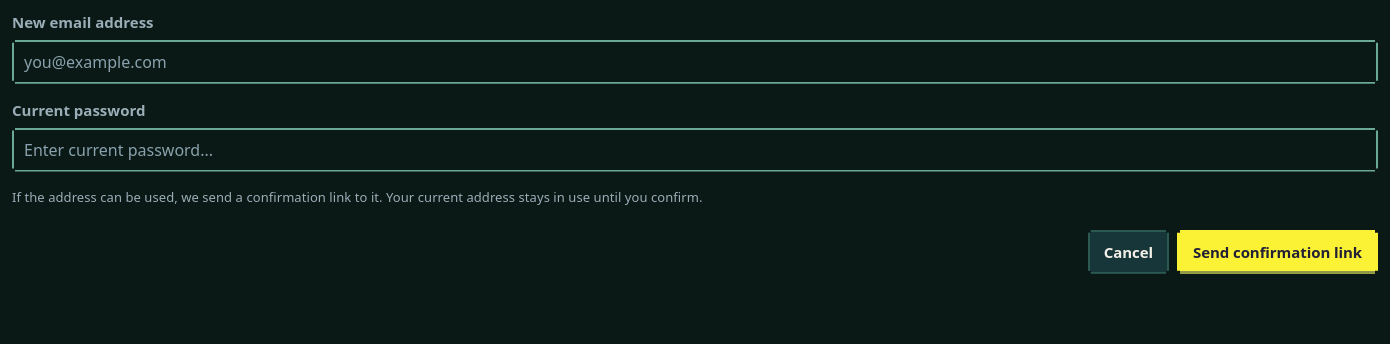
Test: ChangeEmailForm › a wrong current password says so and keeps the form usable
Type "new@example.com" into the field labelled "New email address" at (695, 62), box x1=12 y1=40 x2=1378 y2=84
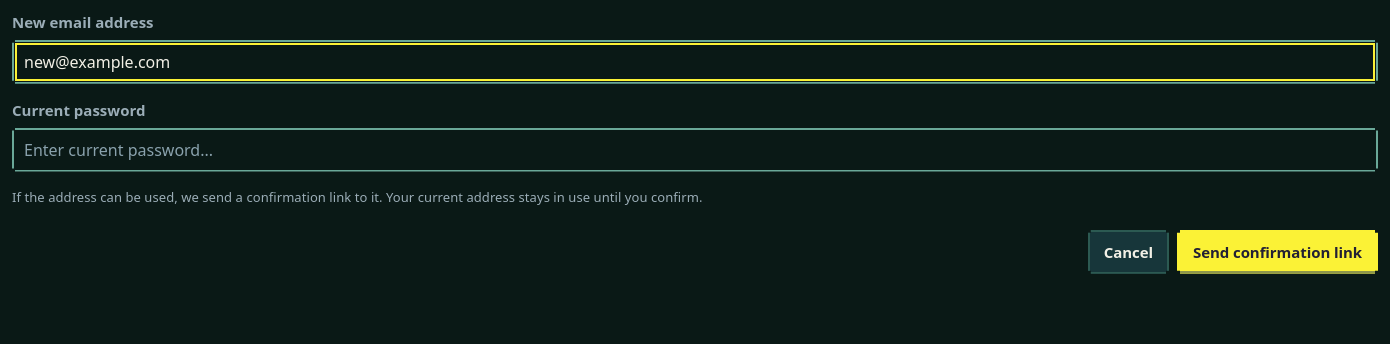
Type "wrong-pass-1" into the password field labelled "Current password" at (695, 150), box x1=12 y1=128 x2=1378 y2=172
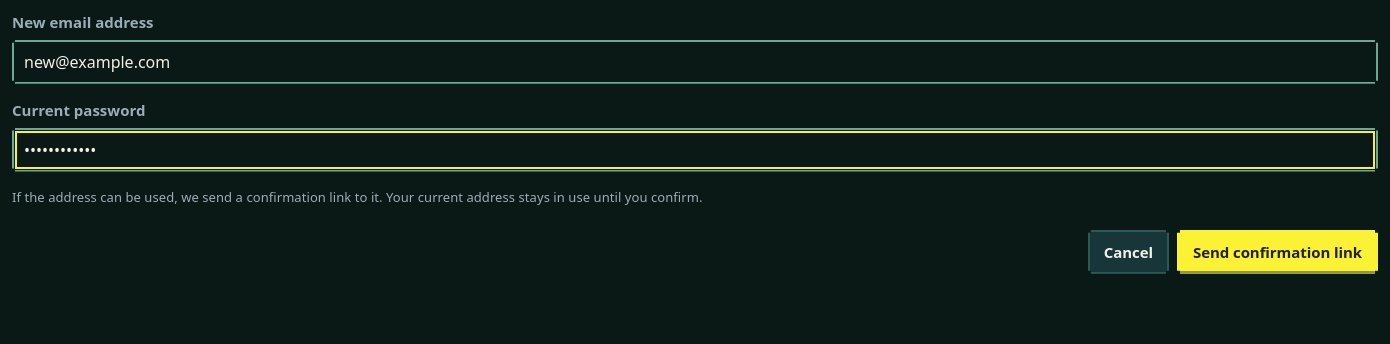
Click the button "Send confirmation link" at (1278, 252), box x1=1177 y1=230 x2=1378 y2=274
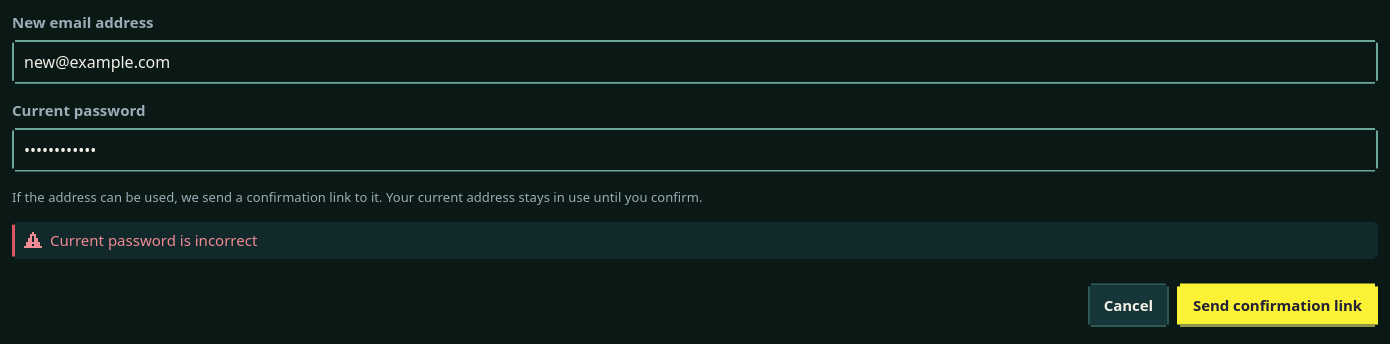
Expected: the button "Send confirmation link" is enabled, x1=1177 y1=283 x2=1378 y2=327
Now the message reads "Current password is incorrect", box x1=50 y1=230 x2=257 y2=250
